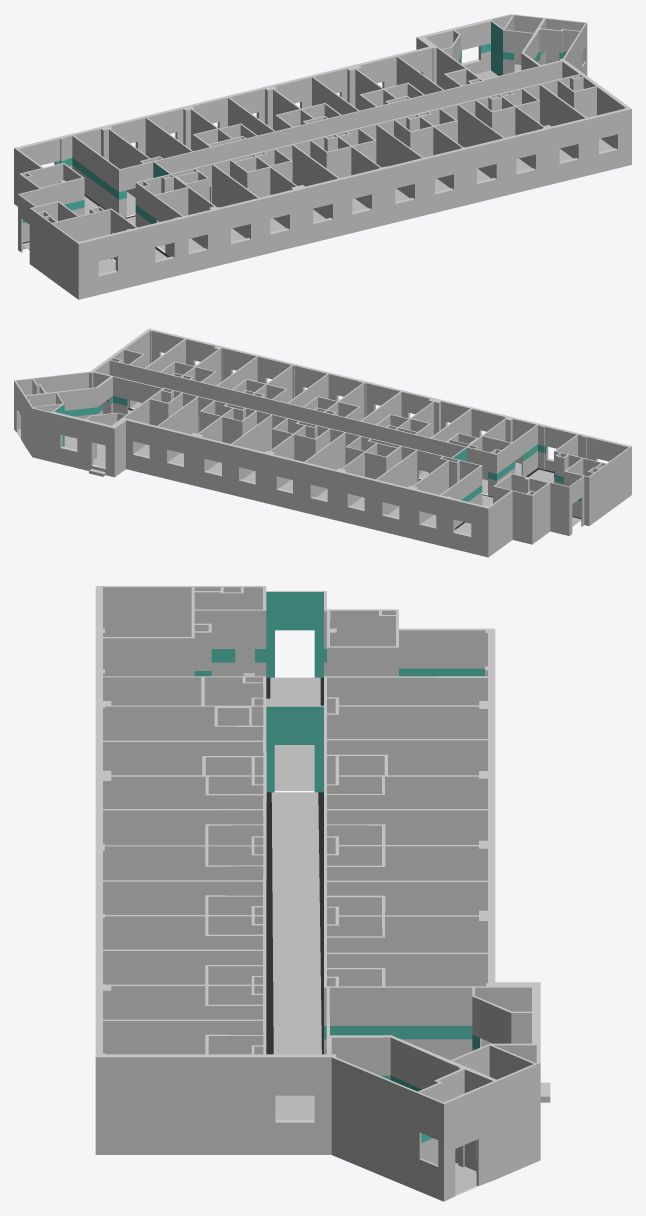
File: Palata1Block.fbx
3 renders of one model, top to bottom at view 1: azimuth 30°, elevation 25°; view 2: azimuth 150°, elevation 25°; view 3: azimuth 270°, elevation 25°, orthographic. The views are drawn at different scales.
Parts seen in each view (by area): view 1: Plane; view 2: Plane; view 3: Plane.
Part boxes in pixels (x1,y1,x2,y2): Plane: (14, 14, 631, 299); Plane: (14, 328, 631, 557); Plane: (95, 586, 550, 1201).
Size of the model in its own units: 5442 by 479 by 2018.
